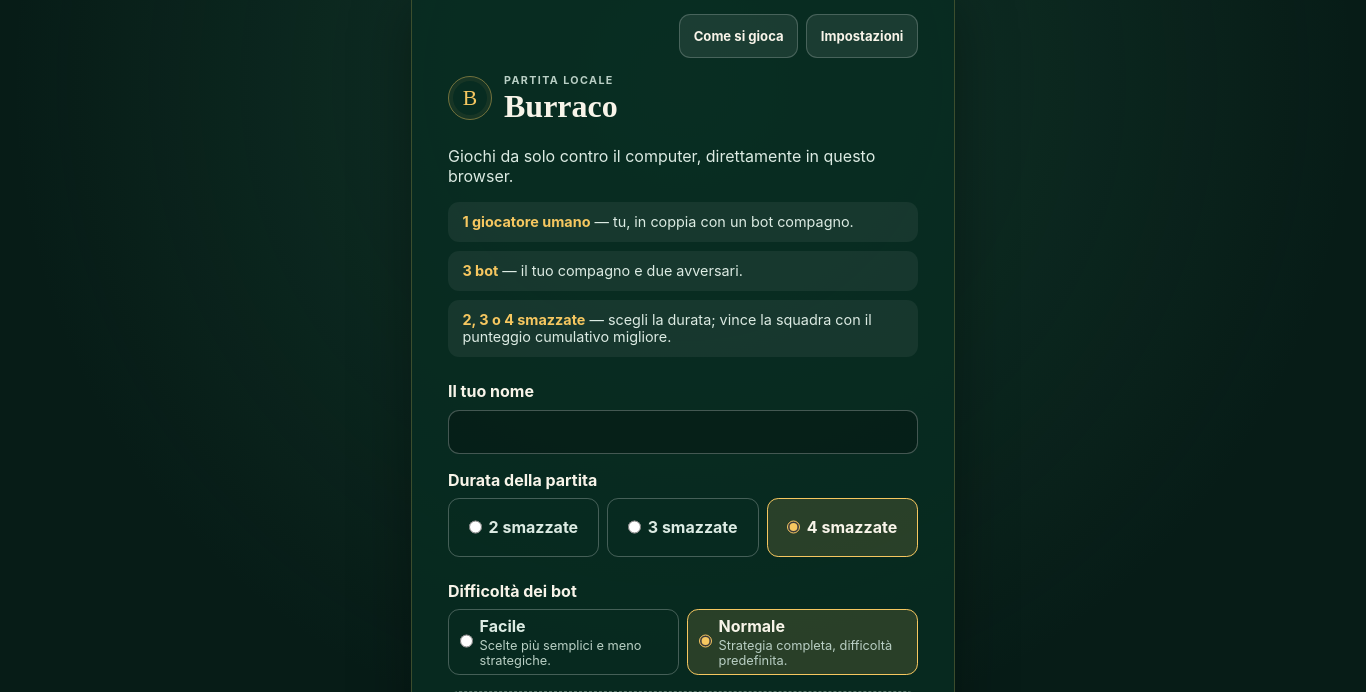
Test case: App contextual guidance (M36) › dismisses to the compact guidance and writes only the guidance preference
Type "Ada" into the field labelled "Il tuo nome" at (683,432), box [448, 410, 918, 454]
(page scrolled)
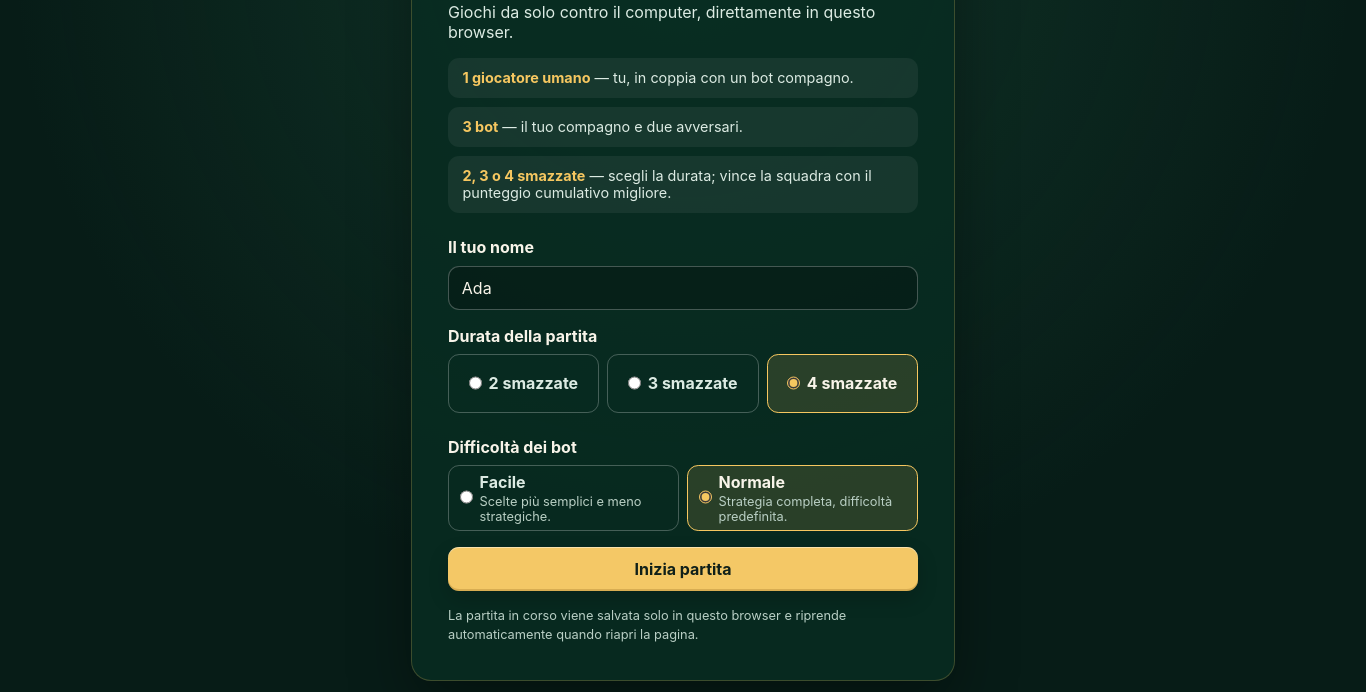
Click the button "Inizia partita" at (683,569), box [448, 547, 918, 591]
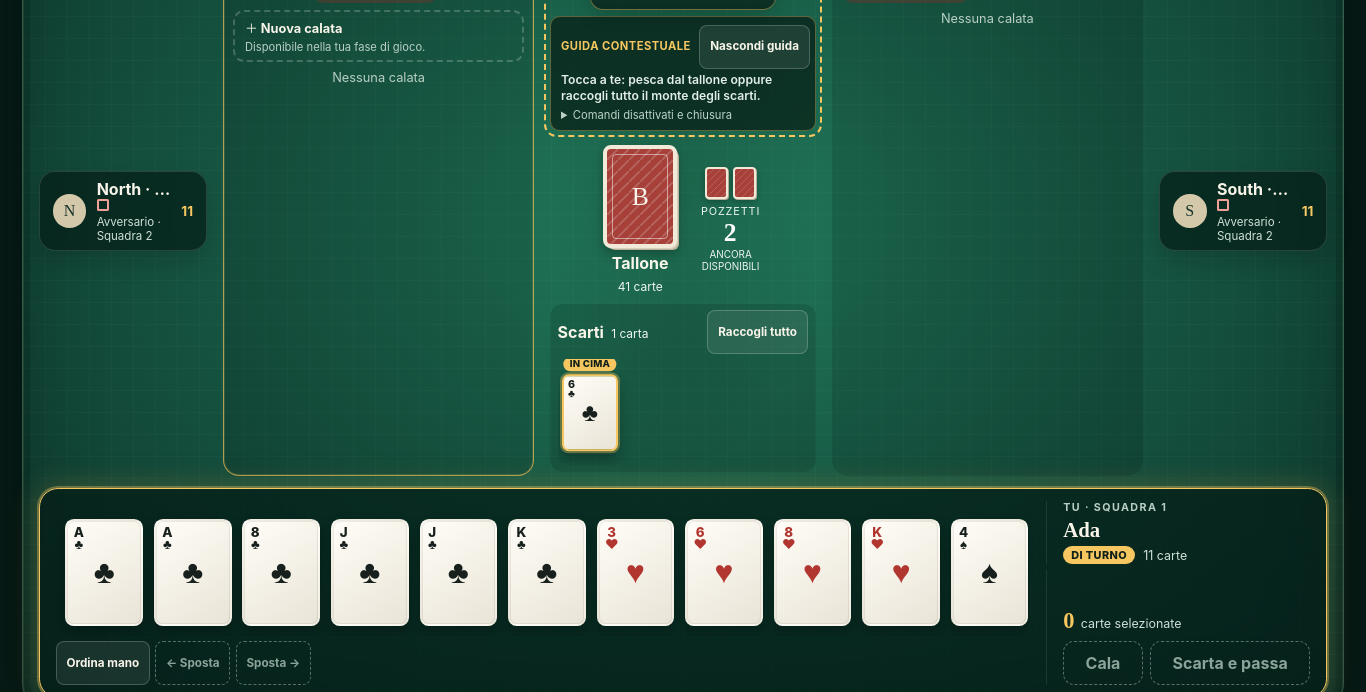
Click the button "Nascondi guida" at (755,47), box [699, 25, 810, 69]
(page scrolled)
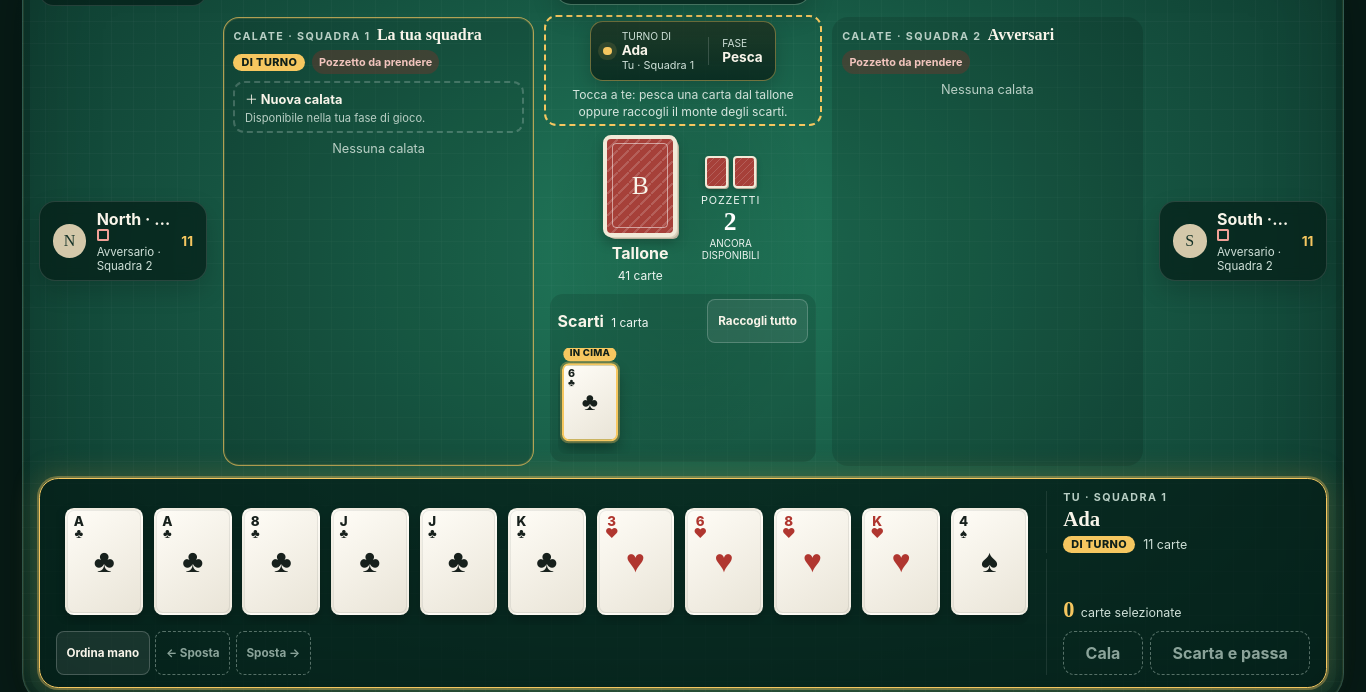
expect the heading "Guida contestuale" is gone: met
expect the text with class "turn-guidance" shows "Tocca a te": met, box [572, 87, 794, 119]
